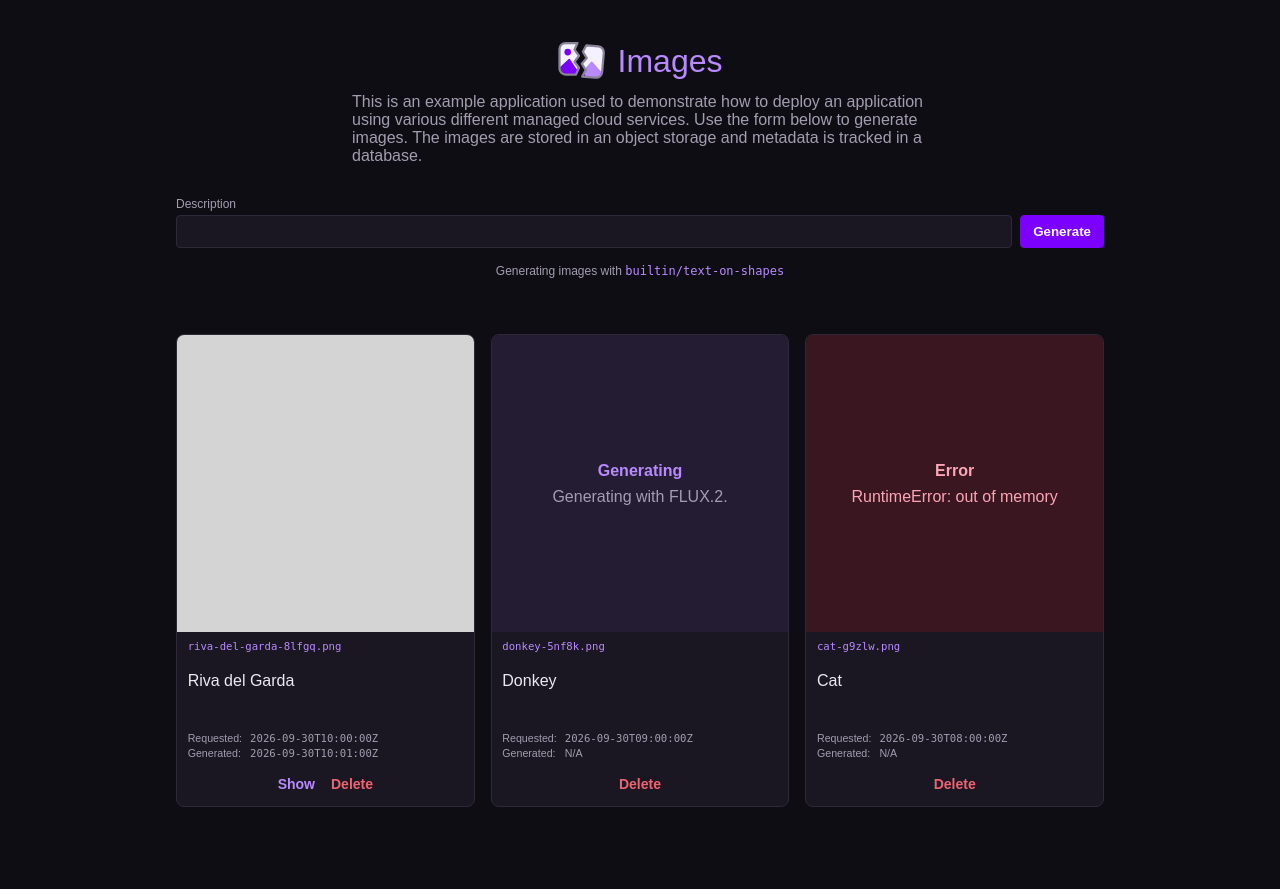
Test: App › shows the error returned by the backend
Click the button "Generate" at (1062,232), box [1020,215,1104,248]
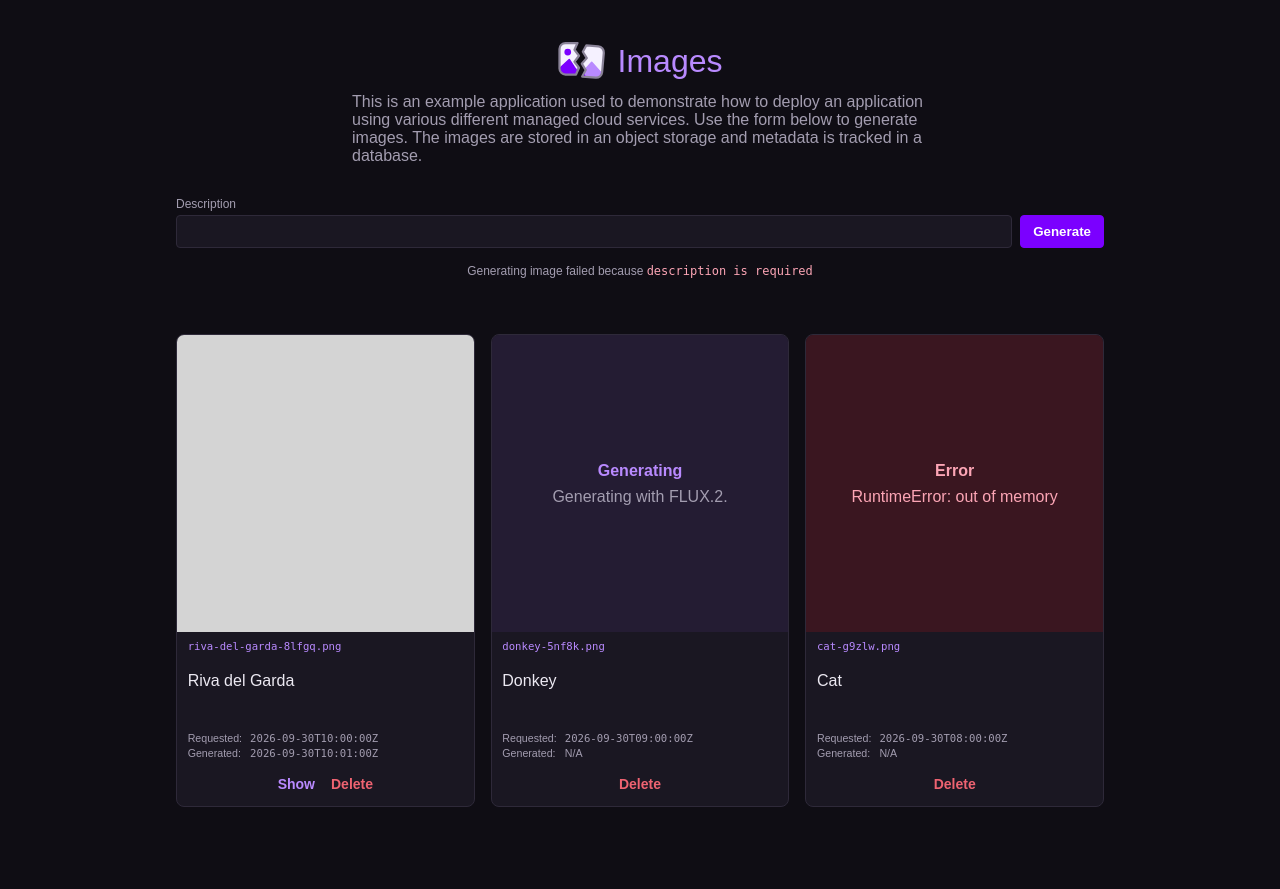
Now the message reads "Generating image failed because description is required", box [467,264,813,278]
Now the text "description is required" is shown, box [647,264,813,278]
